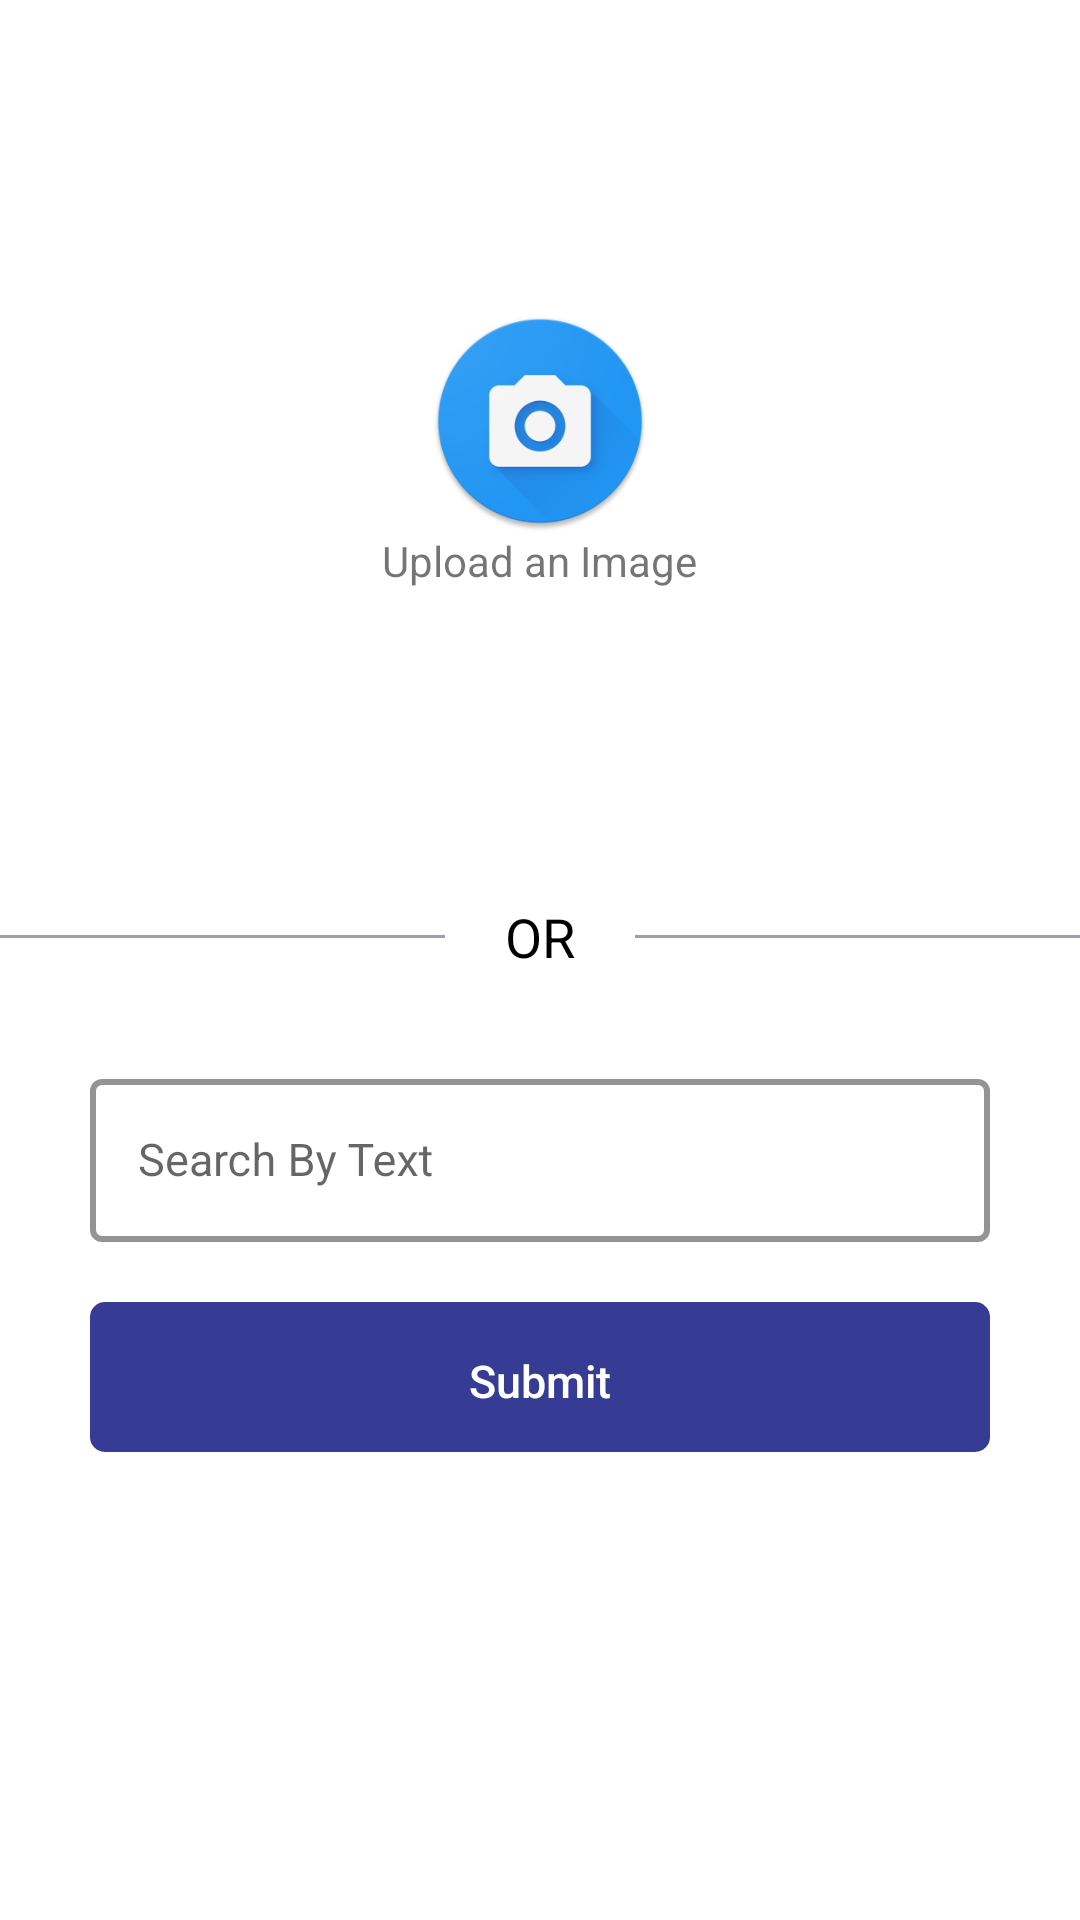

Icons on this 1080px×1920px Android screen, each with the point to tap as point (x, y):
camera: point (540, 423)
